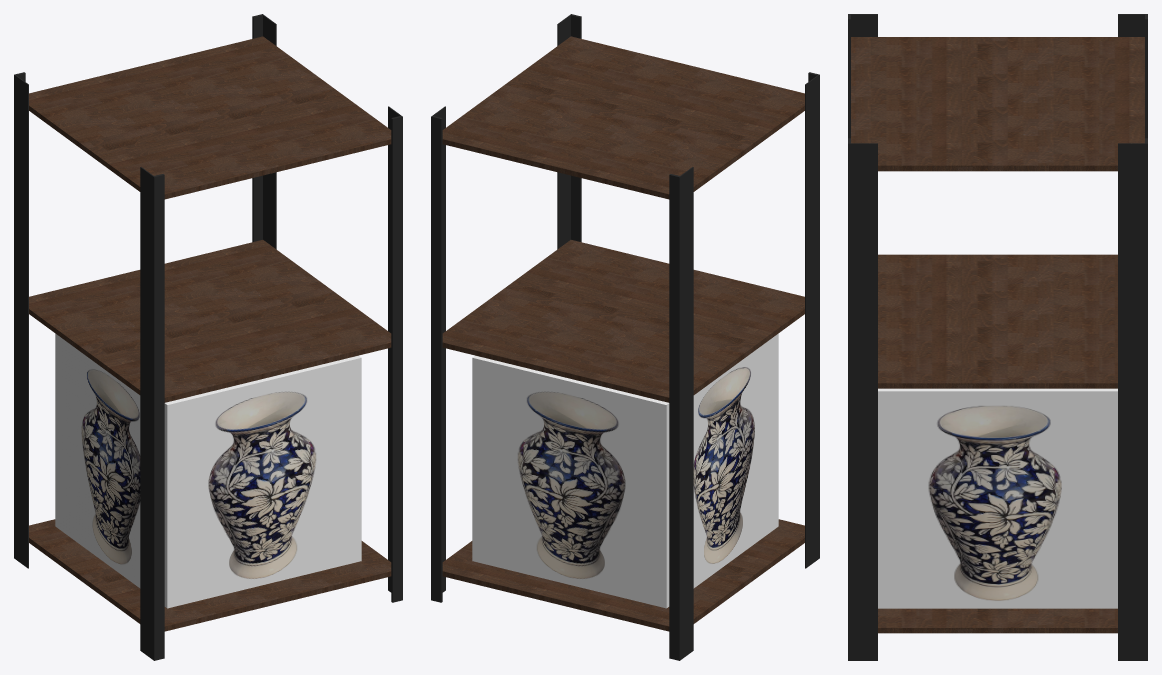
File: small_rack_vase.dae
3 views of the same model, side by side, from view 1: azimuth 30°, elevation 25°; view 2: azimuth 150°, elevation 25°; view 3: azimuth 270°, elevation 25° (orthographic). The views are drawn at different scales.
Parts seen in each view (by area): view 1: Cube.001, Family2 Family2 [5175].001, Family2 Family2 [5175].002, Extrusion [3348], Family2 Family2 [5175]; view 2: Cube.001, Family2 Family2 [5175].001, Family2 Family2 [5175].002, Extrusion [3348], Family2 Family2 [5175]; view 3: Cube.001, Family2 Family2 [5175].001, Extrusion [3348], Family2 Family2 [5175].002, Family2 Family2 [5175].
Part boxes in pixels (x1=…): Cube.001: x1=55, y1=333, x2=361, y2=608; Family2 Family2 [5175].001: x1=29, y1=36, x2=391, y2=199; Family2 Family2 [5175].002: x1=29, y1=240, x2=391, y2=402; Extrusion [3348]: x1=14, y1=14, x2=402, y2=660; Family2 Family2 [5175]: x1=29, y1=519, x2=391, y2=631; Cube.001: x1=472, y1=333, x2=778, y2=608; Family2 Family2 [5175].001: x1=442, y1=36, x2=804, y2=199; Family2 Family2 [5175].002: x1=442, y1=240, x2=804, y2=402; Extrusion [3348]: x1=431, y1=14, x2=819, y2=660; Family2 Family2 [5175]: x1=442, y1=519, x2=804, y2=631; Cube.001: x1=878, y1=388, x2=1117, y2=608; Family2 Family2 [5175].001: x1=851, y1=37, x2=1144, y2=171; Extrusion [3348]: x1=848, y1=14, x2=1147, y2=660; Family2 Family2 [5175].002: x1=878, y1=254, x2=1117, y2=388; Family2 Family2 [5175]: x1=878, y1=608, x2=1117, y2=633.
Bounding box in the file's own units: 0.5118 × 0.5 × 0.9514.
Materials: 3 (2 with a texture image).
